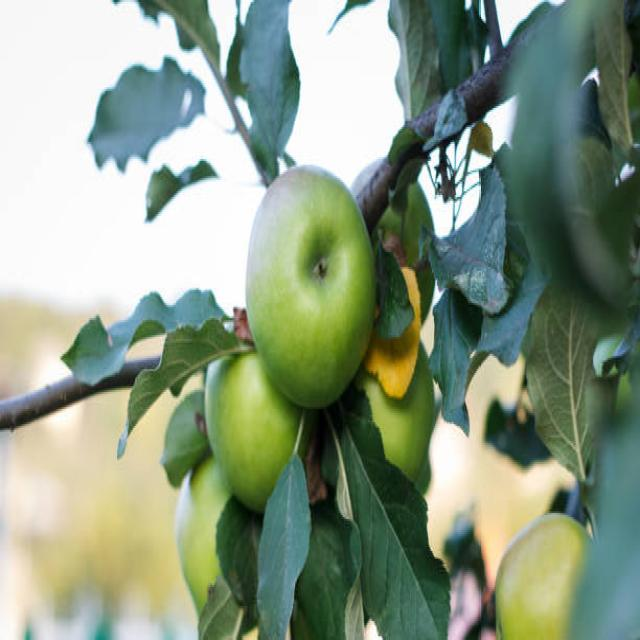Unripe: (244, 165, 378, 412)
